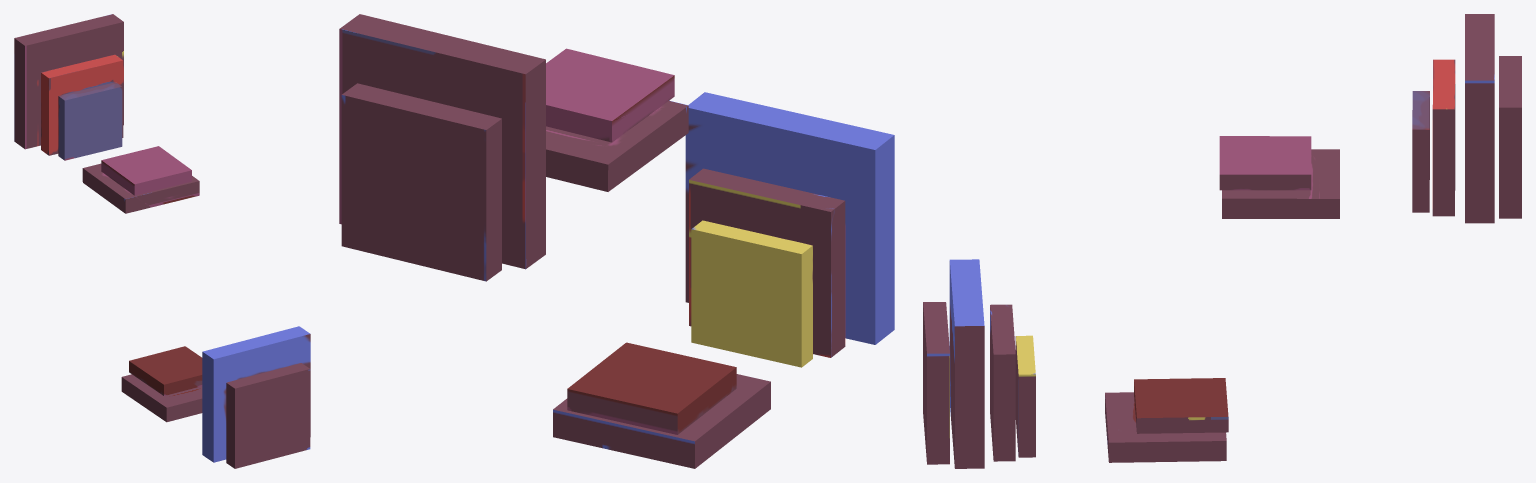
Rendered from books.fbx.
The picture shows the model from 3 angles, left to right: view 1: azimuth 30°, elevation 25°; view 2: azimuth 150°, elevation 25°; view 3: azimuth 270°, elevation 25°; orthographic projection. The views are drawn at different scales.
Visible parts, largest first — view 1: books; view 2: books; view 3: books.
Boxes of the visible parts, left/top/right/bottom form: books: left=14, top=14, right=310, bottom=468; books: left=339, top=14, right=894, bottom=468; books: left=923, top=14, right=1521, bottom=468.
Size of the model in its own units: 71.73 by 193 by 268.
1 material, 1 textured.
